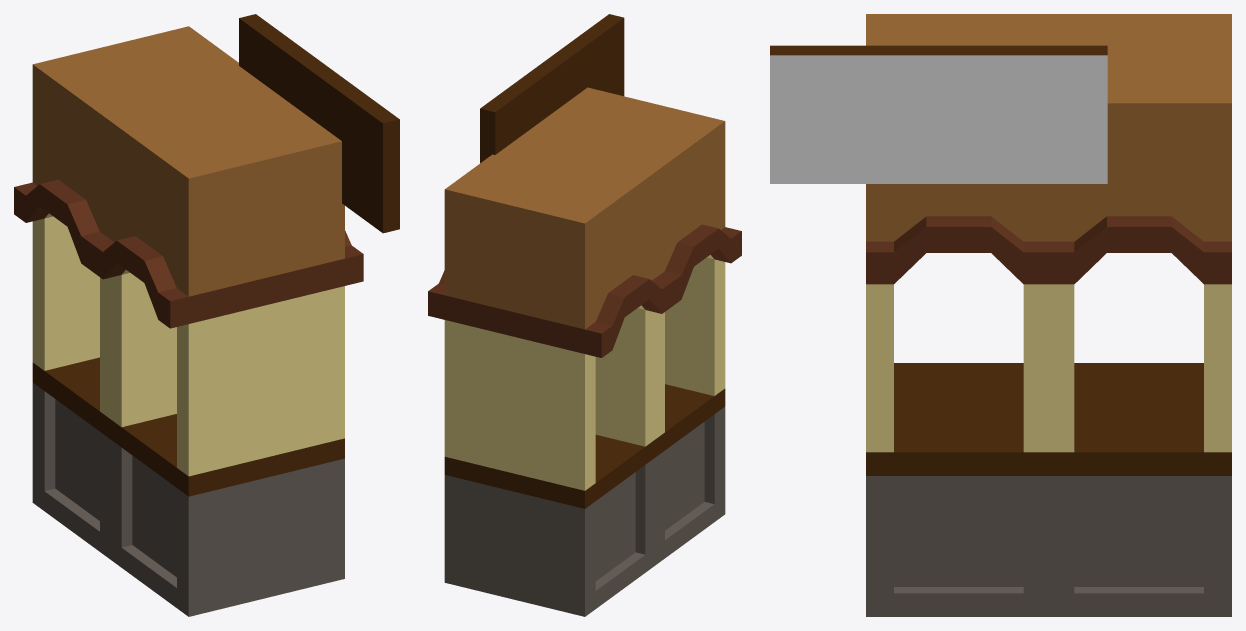
File: ordersWindow.fbx
3 renders of one model, left to right at view 1: azimuth 30°, elevation 25°; view 2: azimuth 150°, elevation 25°; view 3: azimuth 270°, elevation 25°, orthographic. The views are drawn at different scales.
Visible parts, largest first — view 1: Cube, Cube.002; view 2: Cube, Cube.002; view 3: Cube, Cube.003, Cube.002.
Boxes of the visible parts, x1,y1,x2,y2 form: Cube: (14,26,363,616); Cube.002: (239,14,399,233); Cube: (428,87,741,616); Cube.002: (480,14,624,163); Cube: (866,14,1231,616); Cube.003: (770,55,1107,183); Cube.002: (770,45,1107,55).
Bounding box in the file's own units: 143 × 344 × 253.
